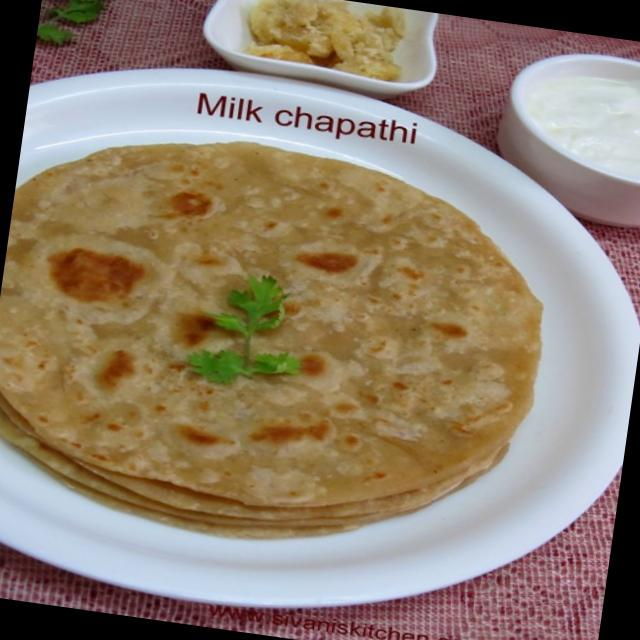roti: (0, 121, 556, 541)
